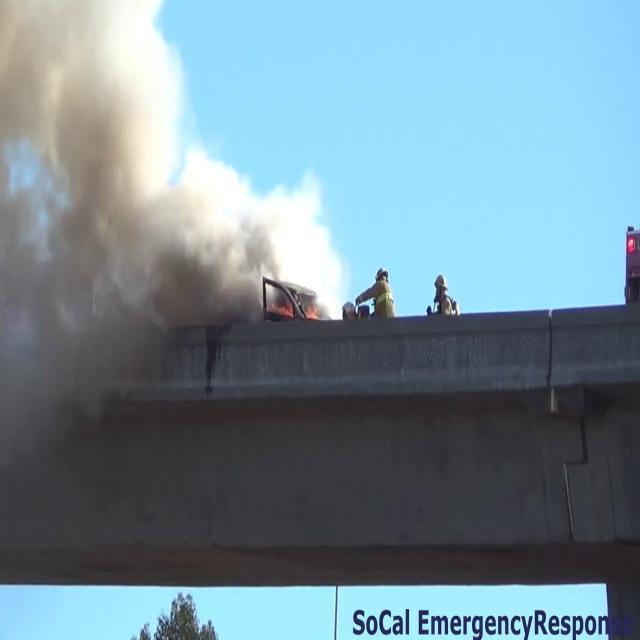Smoke: (0, 0, 294, 404)
